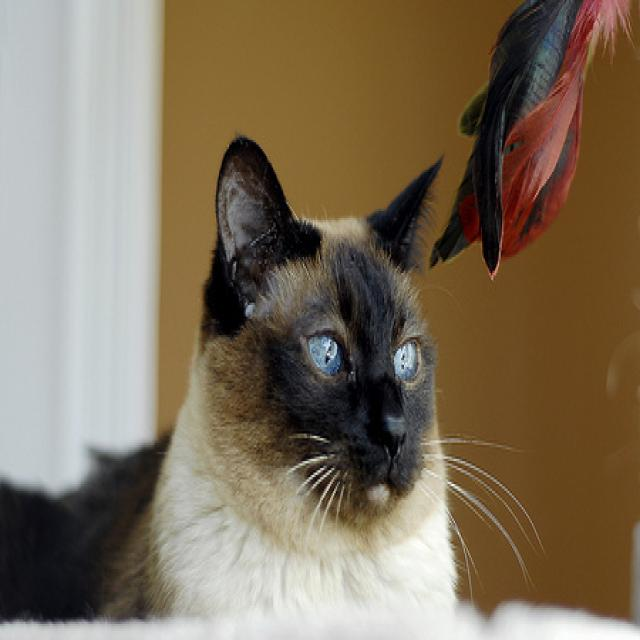Siamese: (0, 128, 462, 626)
